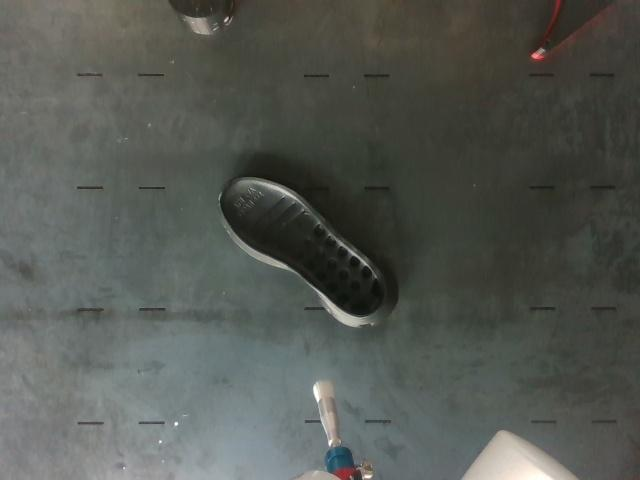shoes: (219, 178, 387, 319)
